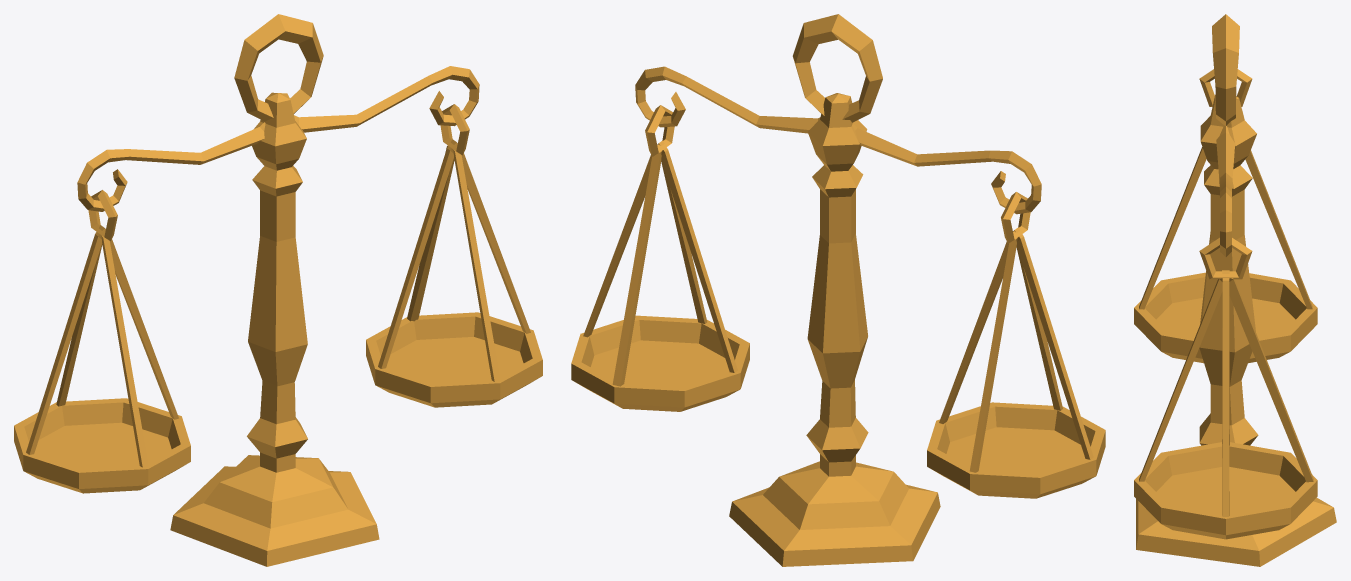
Rendered from SM_Scales_Balance_A.fbx.
3 views of the same model, side by side, from view 1: azimuth 30°, elevation 25°; view 2: azimuth 150°, elevation 25°; view 3: azimuth 270°, elevation 25° (orthographic).
Visible parts, largest first — view 1: scales-balance-a; view 2: scales-balance-a; view 3: scales-balance-a.
Boxes of the visible parts, x1,y1,x2,y2 form: scales-balance-a: (14,14,542,566); scales-balance-a: (571,14,1105,566); scales-balance-a: (1134,14,1336,566).
Bounding box in the file's own units: 0.7379 × 0.6998 × 0.2531.
